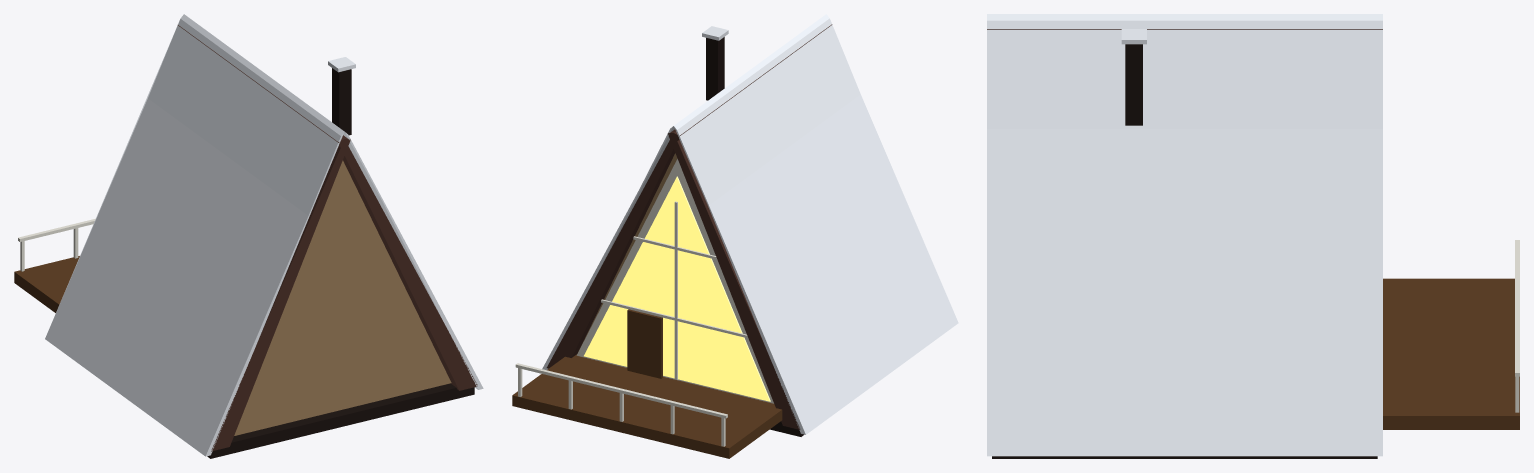
File: HOUSE_aframe.glb
3 renders of one model, left to right at view 1: azimuth 30°, elevation 25°; view 2: azimuth 150°, elevation 25°; view 3: azimuth 270°, elevation 25°, orthographic. The views are drawn at different scales.
Visible parts, largest first — view 1: House; view 2: House; view 3: House.
Part boxes in pixels (left/top/right/bottom): House: left=14, top=14, right=483, bottom=458; House: left=512, top=14, right=958, bottom=458; House: left=987, top=14, right=1519, bottom=458.
Size of the model in its own units: 7.8 by 8.25 by 10.5.
